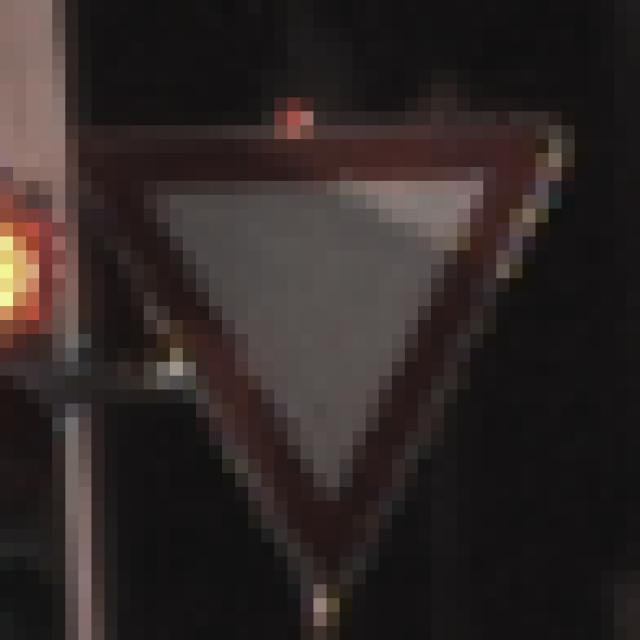Give Way: (66, 85, 563, 572)
